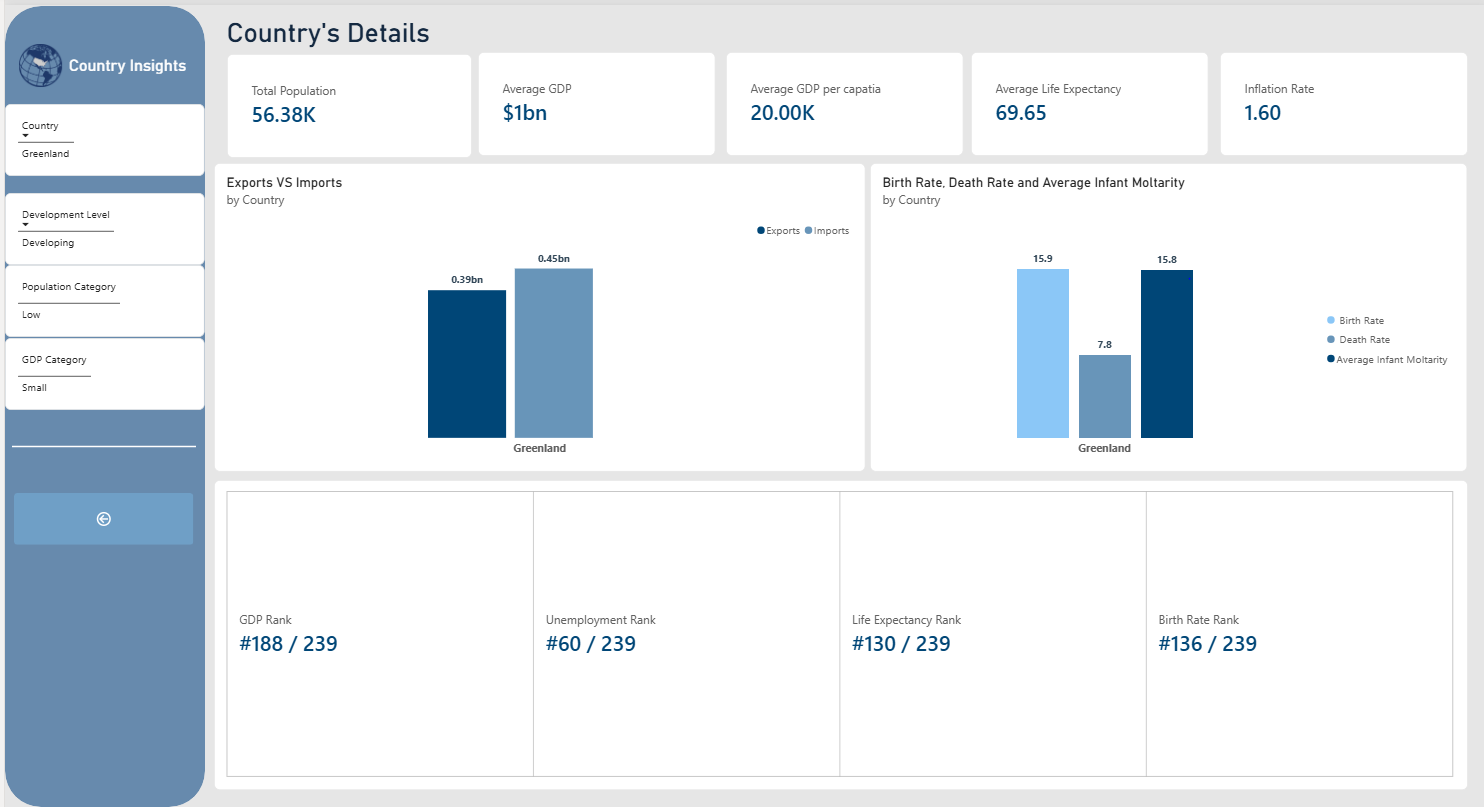

The page's visual inventory and layout, read from the dashboard file:
{"tool":"powerbi","page":{"name":"Country's Details","canvas":[2000,1080],"ordinal":4},"visuals":[{"type":"shape","box":[0,1.5,269.5,1079.5],"z":0,"group":"g1"},{"type":"cardVisual","fields":{"Data":["DAX measures.Average GDP per capatia"]},"box":[971.3,63.7,320,140],"z":0},{"type":"image","box":[0,52.7,95.7,58],"z":1000,"group":"g1"},{"type":"cardVisual","fields":{"Data":["DAX measures.Average Life Expectancy"]},"box":[1302.5,63.7,320,140],"z":1000},{"type":"cardVisual","fields":{"Data":["DAX measures.Inflation Rate"]},"box":[1636.9,63.7,334.2,140.2],"z":2000},{"type":"textbox","title":"Country Insights","box":[86.3,68.9,168.5,39.1],"z":2000,"group":"g1"},{"type":"cardVisual","fields":{"Data":["DAX measures.Total Population"]},"box":[299.2,66,330.2,140.2],"z":3000},{"type":"shape","box":[9.1,444.5,248,300.5],"z":3000,"group":"g1"},{"type":"group","id":"g1","title":"Group 1","box":[0,1.5,269.5,1079.5],"z":4000},{"type":"textbox","title":"Country''s Details","box":[299.2,16.2,571.4,51.2],"z":5000},{"type":"clusteredColumnChart","title":" Exports VS Imports","fields":{"Category":["Country Data Comparison.Country"],"Y":["Sum(Country Data Comparison.Exports)","Sum(Country Data Comparison.Imports)"]},"box":[281.2,212.8,878.4,416.4],"z":6000},{"type":"cardVisual","fields":{"Data":["DAX measures.Average GDP"]},"box":[636.9,63.7,320,140],"z":7000},{"type":"clusteredColumnChart","fields":{"Category":["Country_Region_Mapping.Country"],"Y":["DAX measures.Average Birth Rate","DAX measures.Average Death Rate","DAX measures.Average Infant Moltarity"]},"box":[1165.7,212.8,805.5,416.4],"z":8000},{"type":"actionButton","box":[12.2,658.1,241.6,69.9],"z":9000},{"type":"cardVisual","fields":{"Data":["DAX measures.GDP Rank","DAX measures.Unemployment Rank","DAX measures.Life Expectancy Rank","DAX measures.Birth Rate Rank"]},"box":[281.2,639.8,1690,417.9],"z":10000},{"type":"tableEx","fields":{"Values":["Country Data Comparison.Development Level"]},"box":[0,253.8,269,97.3],"z":10001},{"type":"tableEx","fields":{"Values":["Country Data Comparison.Population Category"]},"box":[0,351.1,269,97.3],"z":10002},{"type":"tableEx","fields":{"Values":["Country Data Comparison.GDP Category"]},"box":[0,448.3,269,97.3],"z":10003},{"type":"tableEx","fields":{"Values":["Country_Region_Mapping.Country"]},"box":[0,133.7,269,97.3],"z":10004}]}

Visuals, with their boxes in screenshot pixels (x1, y1, x2, y2), scaled from the page's 2000x1080 canvas onto the 1484x807 screenshot:
shape: 0 1 200 806
cardVisual - DAX measures.Average GDP per capatia: 721 48 958 152
image: 0 39 71 83
cardVisual - DAX measures.Average Life Expectancy: 966 48 1204 152
cardVisual - DAX measures.Inflation Rate: 1215 48 1463 152
"Country Insights" textbox: 64 51 189 81
cardVisual - DAX measures.Total Population: 222 49 467 154
shape: 7 332 191 557
"Group 1" group: 0 1 200 806
"Country''s Details" textbox: 222 12 646 50
" Exports VS Imports" clusteredColumnChart: 209 159 860 470
cardVisual - DAX measures.Average GDP: 473 48 710 152
clusteredColumnChart - Country_Region_Mapping.Country x DAX measures.Average Birth Rate: 865 159 1463 470
actionButton: 9 492 188 544
cardVisual - DAX measures.GDP Rank x DAX measures.Unemployment Rank: 209 478 1463 790
tableEx - Country Data Comparison.Development Level: 0 190 200 262
tableEx - Country Data Comparison.Population Category: 0 262 200 335
tableEx - Country Data Comparison.GDP Category: 0 335 200 408
tableEx - Country_Region_Mapping.Country: 0 100 200 173
